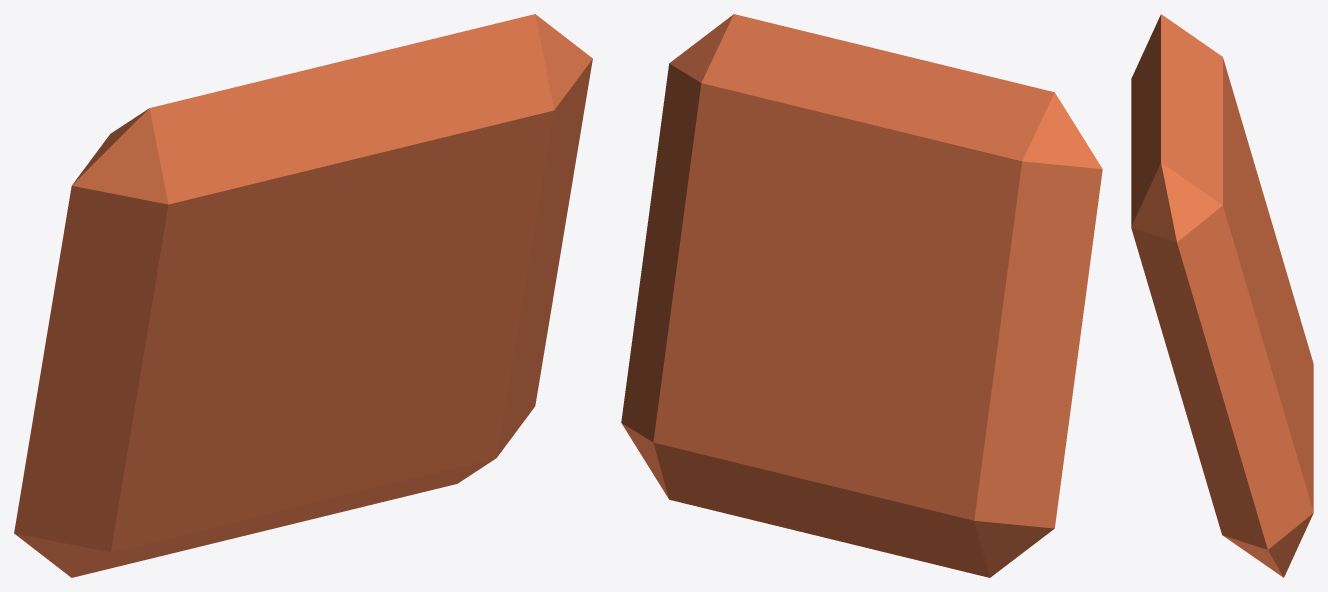
Rendered from pillow.glb.
The picture shows the model from 3 angles, left to right: view 1: azimuth 30°, elevation 25°; view 2: azimuth 150°, elevation 25°; view 3: azimuth 270°, elevation 25°; orthographic projection. The views are drawn at different scales.
Size of the model in its own units: 2.3 by 2.22 by 0.8848.
